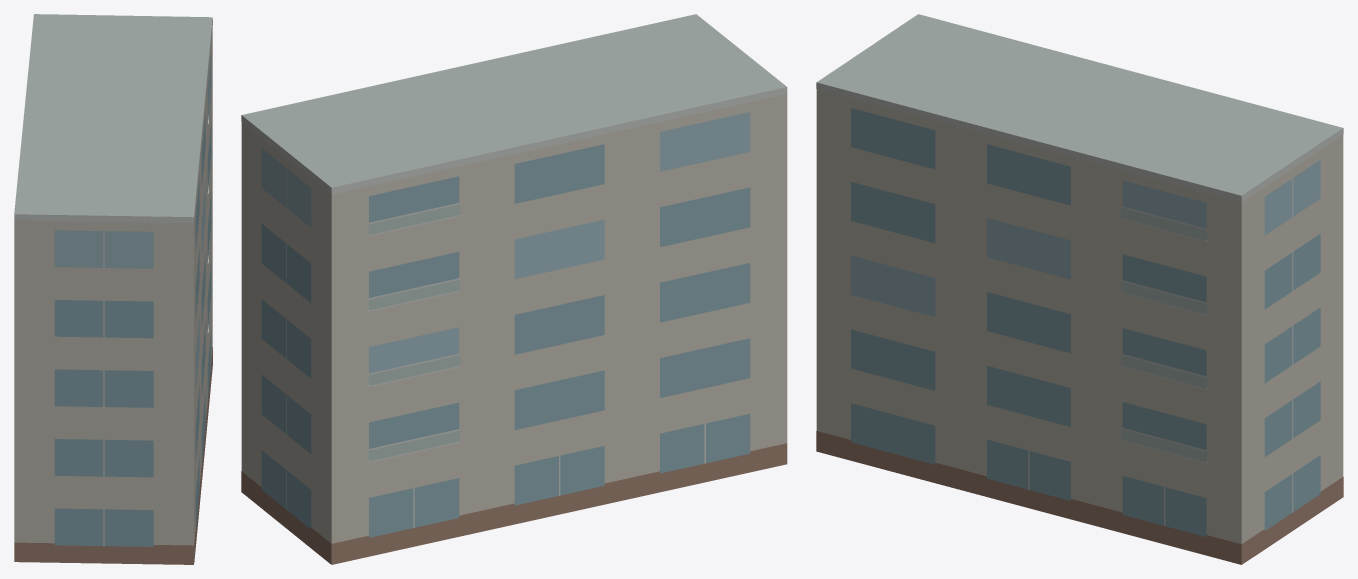
File: survey-upis-32893491.glb
3 views of the same model, side by side, from view 1: azimuth 30°, elevation 25°; view 2: azimuth 150°, elevation 25°; view 3: azimuth 270°, elevation 25° (orthographic). The views are drawn at different scales.
Visible parts, largest first — view 1: survey-upis-32893491.tmp; view 2: survey-upis-32893491.tmp; view 3: survey-upis-32893491.tmp.
Part boxes in pixels (x1,y1,x2,y2): survey-upis-32893491.tmp: (14, 14, 212, 564); survey-upis-32893491.tmp: (241, 14, 787, 564); survey-upis-32893491.tmp: (816, 14, 1343, 564).
Bounding box in the file's own units: 14.27 × 13.5 × 17.47.
